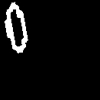chain: (5, 3, 27, 52)
